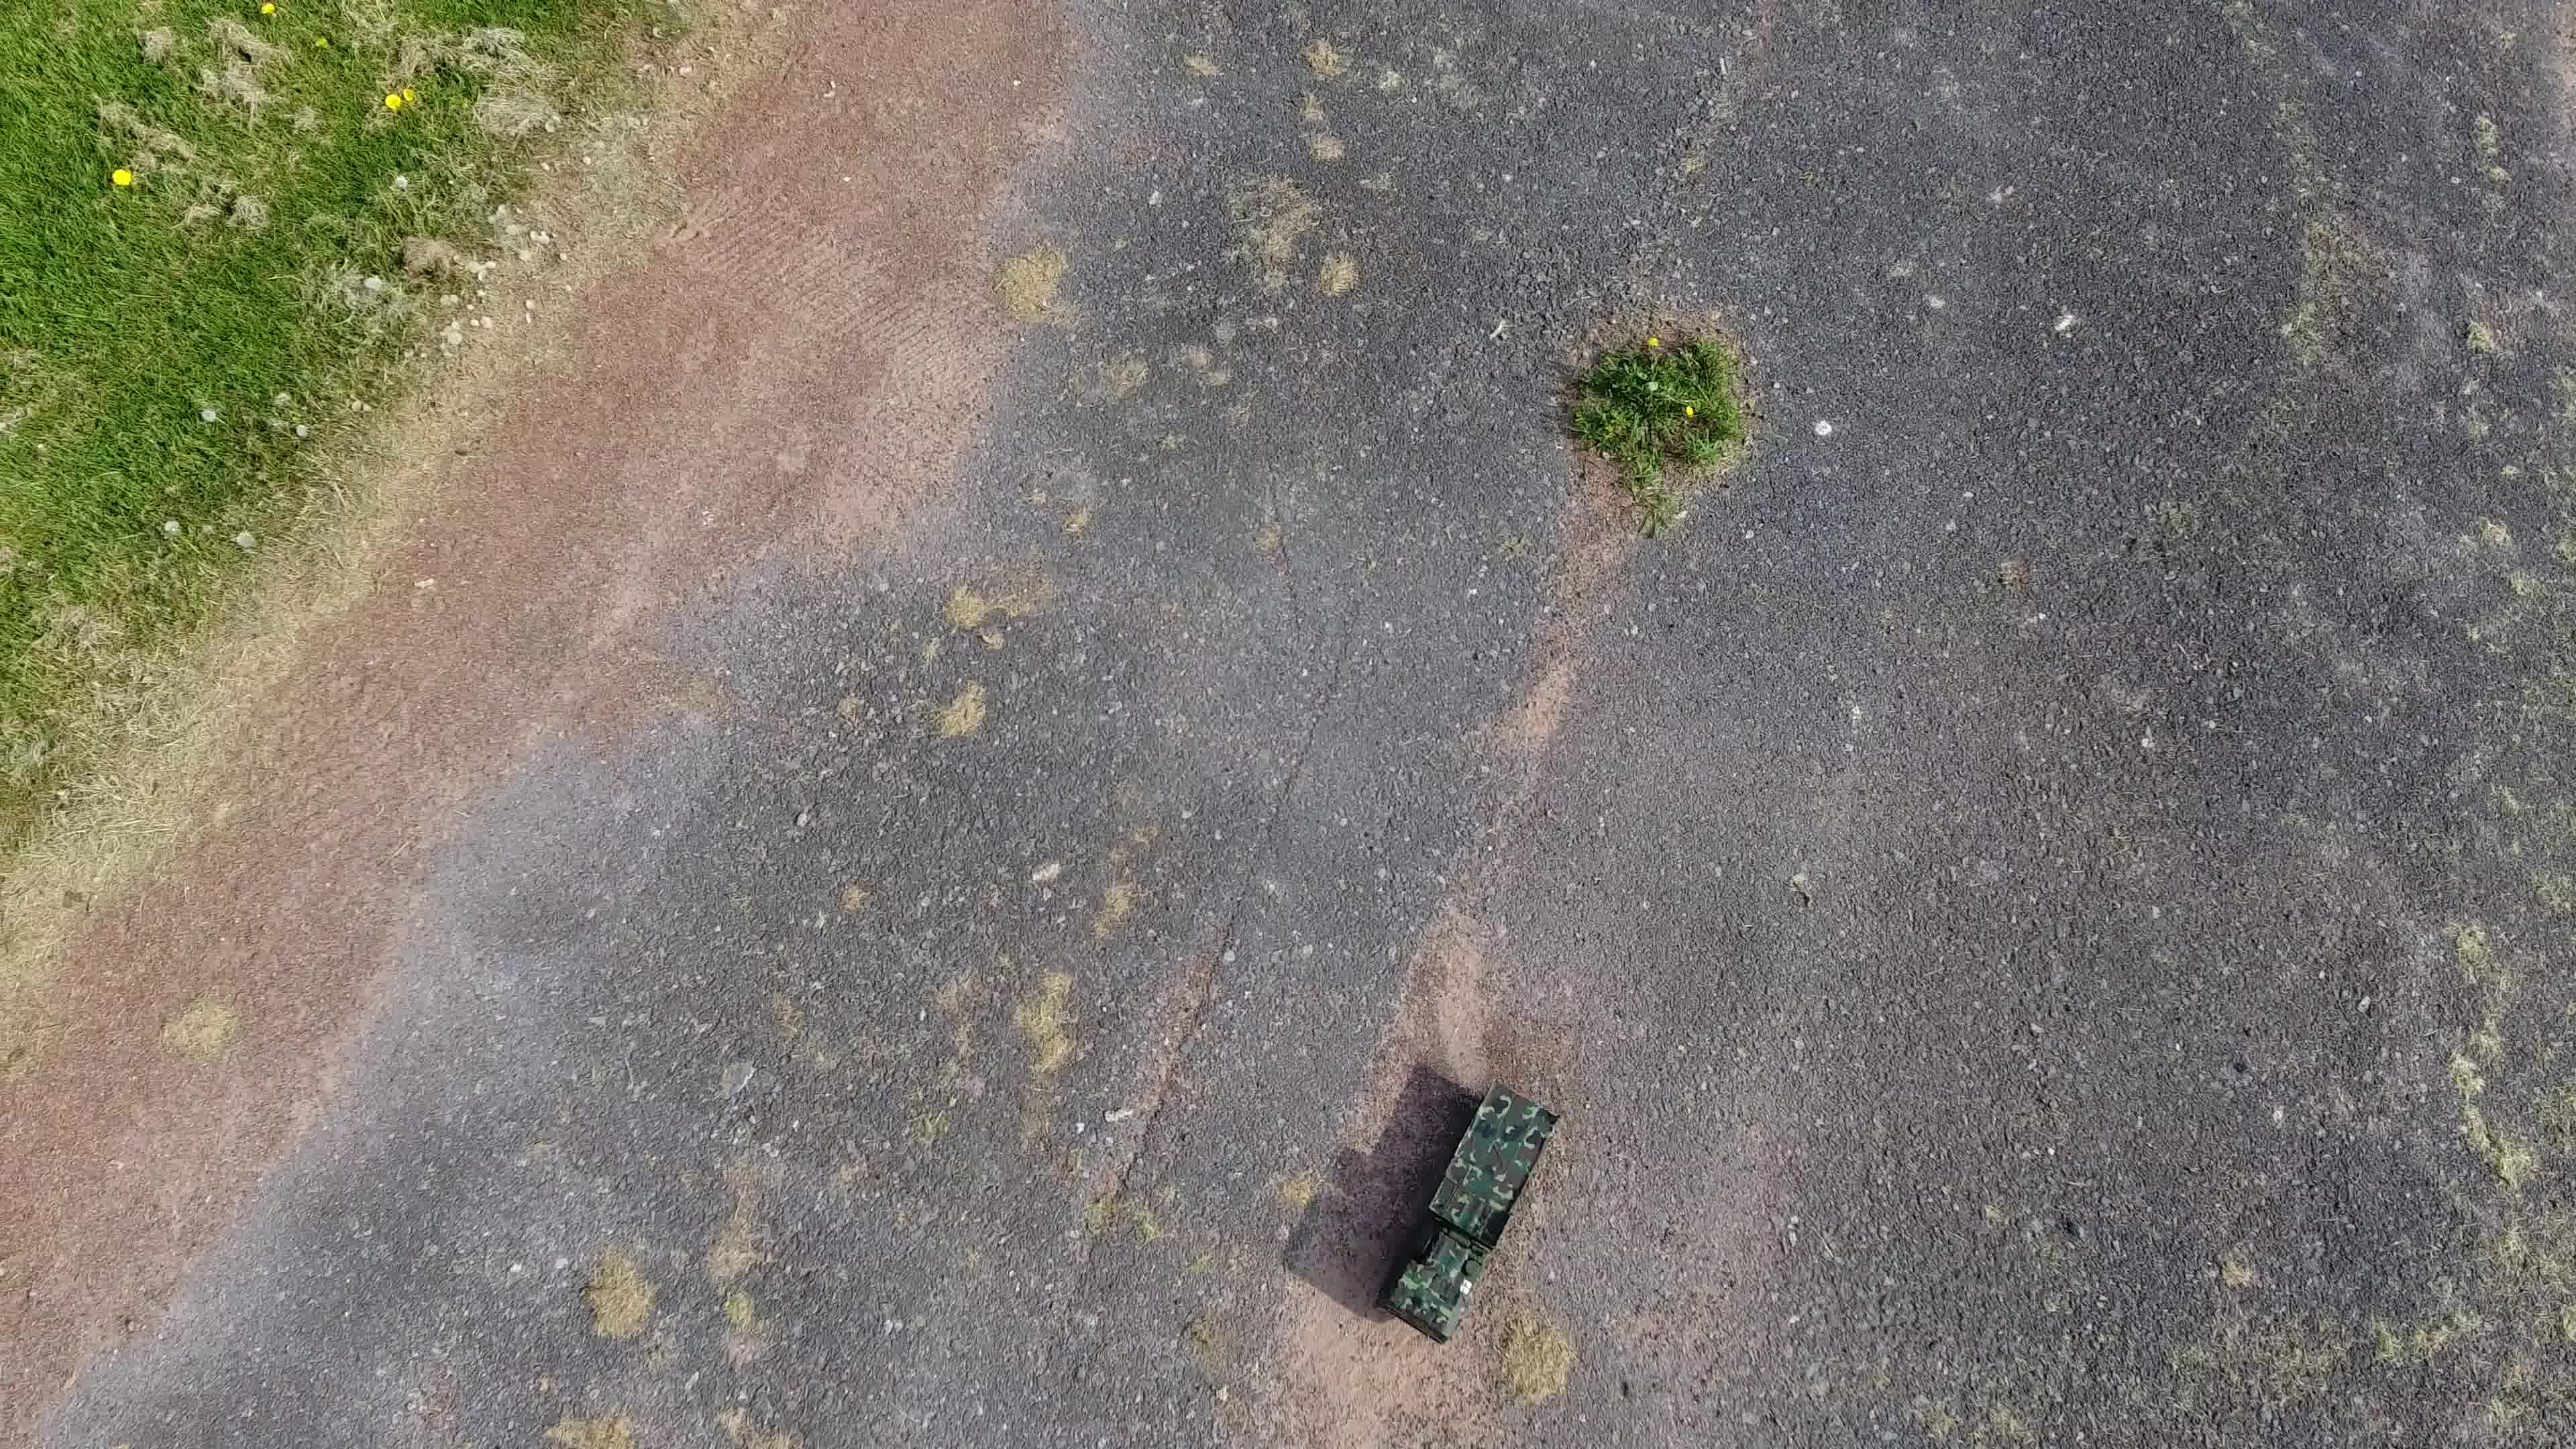transporter9: (1378, 1069, 1568, 1352)
